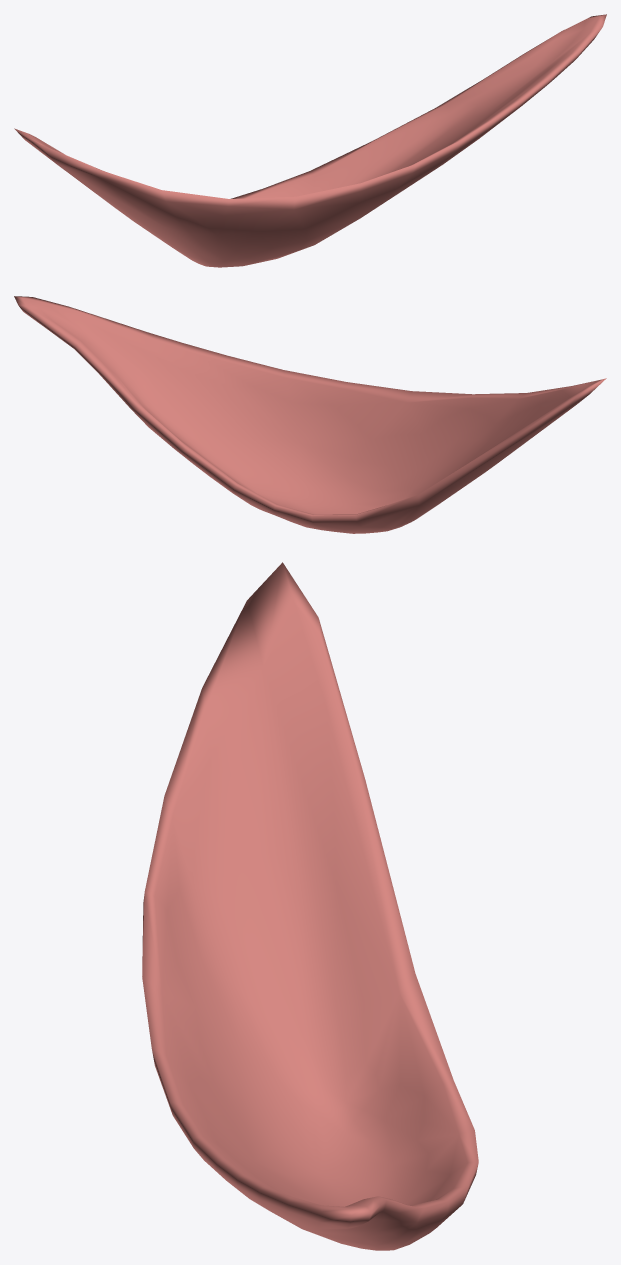
3 renders of one model, top to bottom at view 1: azimuth 30°, elevation 25°; view 2: azimuth 150°, elevation 25°; view 3: azimuth 270°, elevation 25°, orthographic. The views are drawn at different scales.
Parts seen in each view (by area): view 1: ZA_50b3f70149e7c1c9; view 2: ZA_50b3f70149e7c1c9; view 3: ZA_50b3f70149e7c1c9.
Part boxes in pixels (x1,y1,x2,y2): ZA_50b3f70149e7c1c9: [14, 14, 606, 267]; ZA_50b3f70149e7c1c9: [14, 296, 606, 533]; ZA_50b3f70149e7c1c9: [142, 562, 478, 1250].
Bounding box in the file's own units: 0.029 × 0.00935 × 0.00734.
